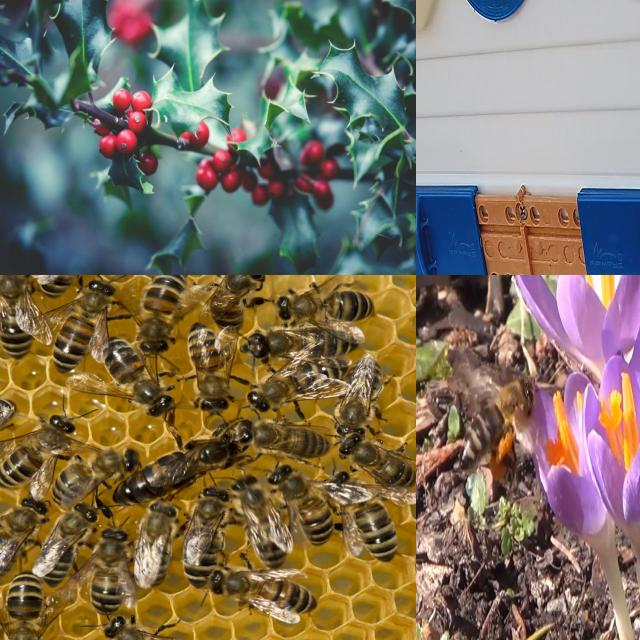honeybee: (107, 426, 237, 502), (455, 354, 537, 470), (322, 453, 394, 569), (99, 336, 172, 429), (339, 424, 414, 512), (262, 457, 330, 548), (216, 568, 316, 627), (230, 481, 294, 572), (86, 521, 137, 629), (280, 288, 378, 344), (43, 275, 102, 368), (179, 481, 225, 597), (58, 438, 138, 504), (1, 414, 77, 481), (248, 367, 354, 413), (38, 502, 91, 592), (131, 497, 179, 596), (236, 325, 358, 362), (0, 486, 46, 584), (186, 321, 235, 411), (1, 276, 50, 364), (242, 408, 328, 455), (204, 262, 255, 336), (341, 368, 382, 452), (135, 276, 182, 348), (3, 566, 39, 640)
